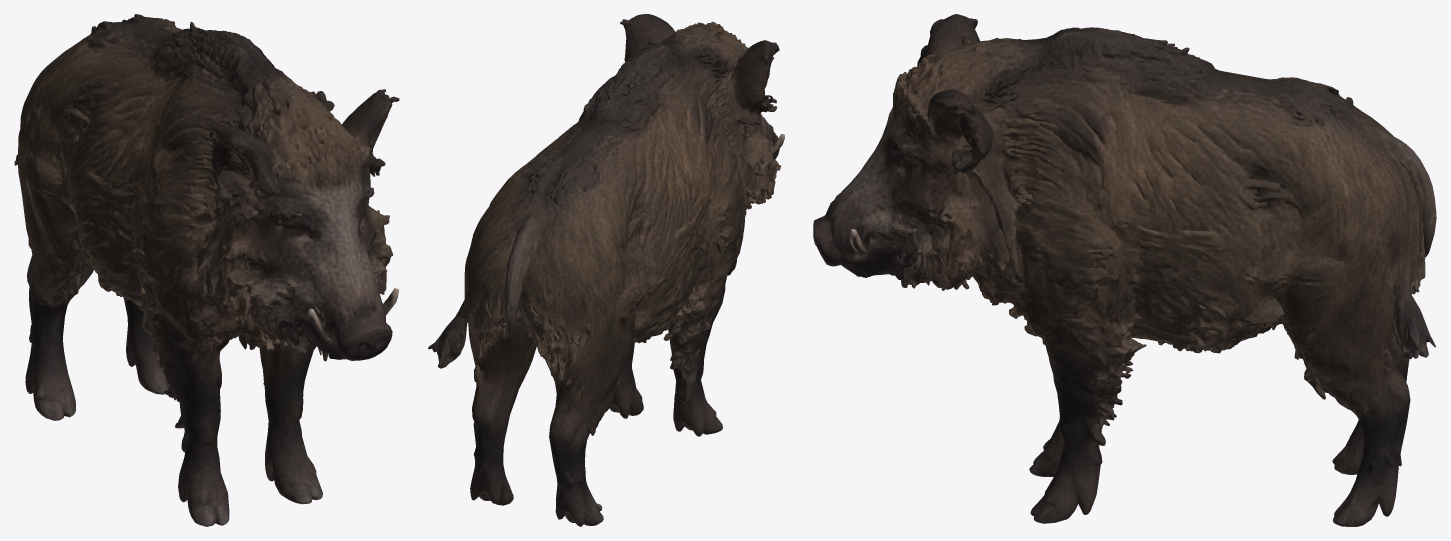
Rendered from wild-boar-v21-lod.glb.
The picture shows the model from 3 angles, left to right: view 1: azimuth 30°, elevation 25°; view 2: azimuth 150°, elevation 25°; view 3: azimuth 270°, elevation 25°; orthographic projection. The views are drawn at different scales.
Parts seen in each view (by area): view 1: geometry_0; view 2: geometry_0; view 3: geometry_0.
Part boxes in pixels (bbox=[...]): geometry_0: bbox=[14, 14, 399, 526]; geometry_0: bbox=[428, 14, 784, 526]; geometry_0: bbox=[813, 14, 1436, 526].
Bounding box in the file's own units: 1.5 × 3.22 × 3.9.
Materials: 1 (1 with a texture image).
